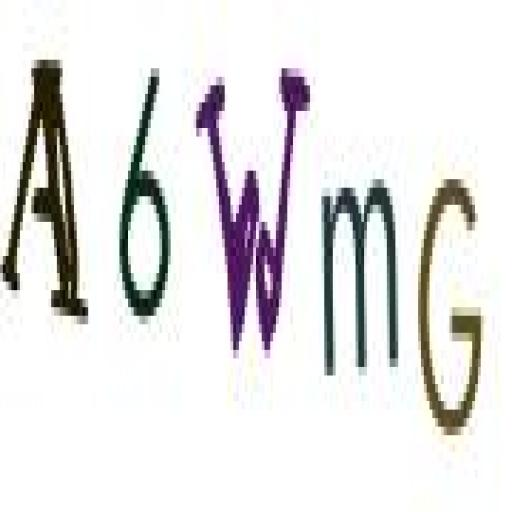6: (113, 47, 175, 334)
A: (0, 48, 89, 342)
G: (416, 154, 492, 460)
W: (196, 56, 317, 368)
m: (321, 169, 402, 389)
